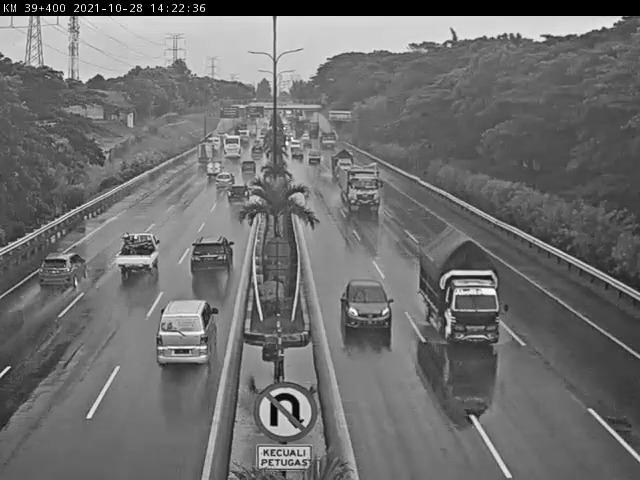car: (155, 298, 219, 367), (340, 278, 394, 328), (116, 231, 161, 276), (38, 252, 88, 287), (191, 236, 235, 273), (227, 184, 250, 204), (214, 171, 235, 191), (238, 160, 257, 176)
truck-l-: (336, 165, 382, 215)
truck-m-: (420, 224, 504, 343)
truck-s-: (205, 159, 224, 177)
